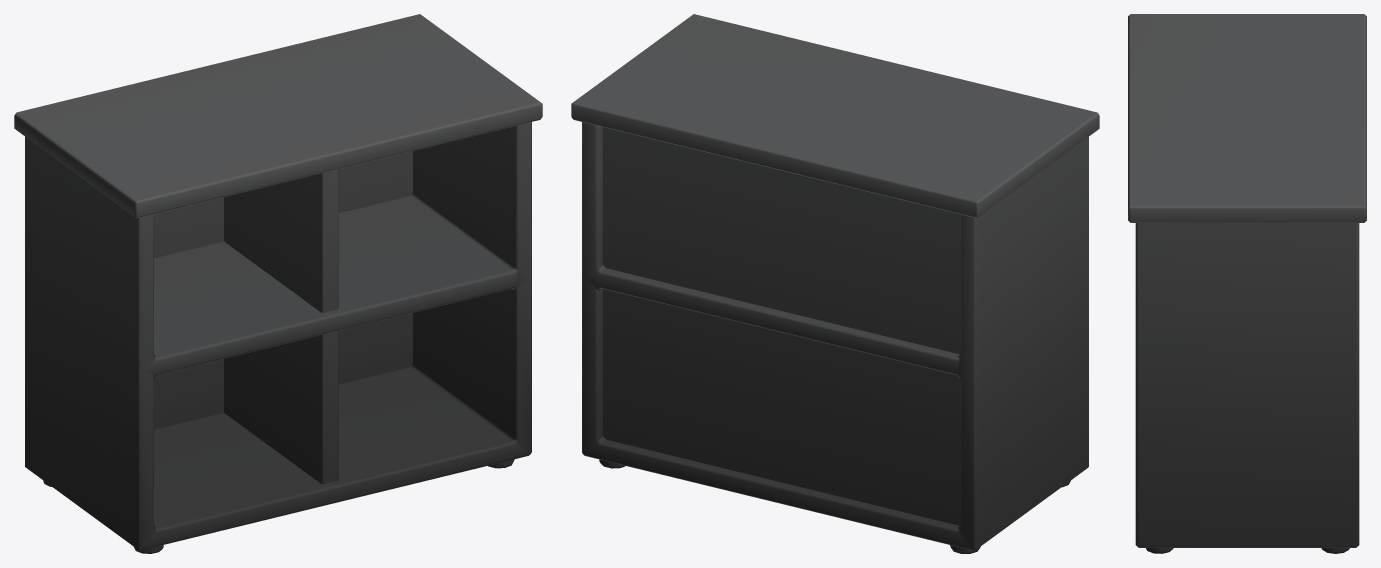
File: Shelving_01.fbx
3 views of the same model, side by side, from view 1: azimuth 30°, elevation 25°; view 2: azimuth 150°, elevation 25°; view 3: azimuth 270°, elevation 25° (orthographic). The views are drawn at different scales.
Visible parts, largest first — view 1: Shelving_01; view 2: Shelving_01; view 3: Shelving_01.
Boxes of the visible parts, box(x1,y1,x2,y2) form: Shelving_01: box(14, 14, 542, 553); Shelving_01: box(571, 14, 1099, 553); Shelving_01: box(1128, 14, 1366, 553).
Bounding box in the file's own units: 99.93 × 85.62 × 52.09.
